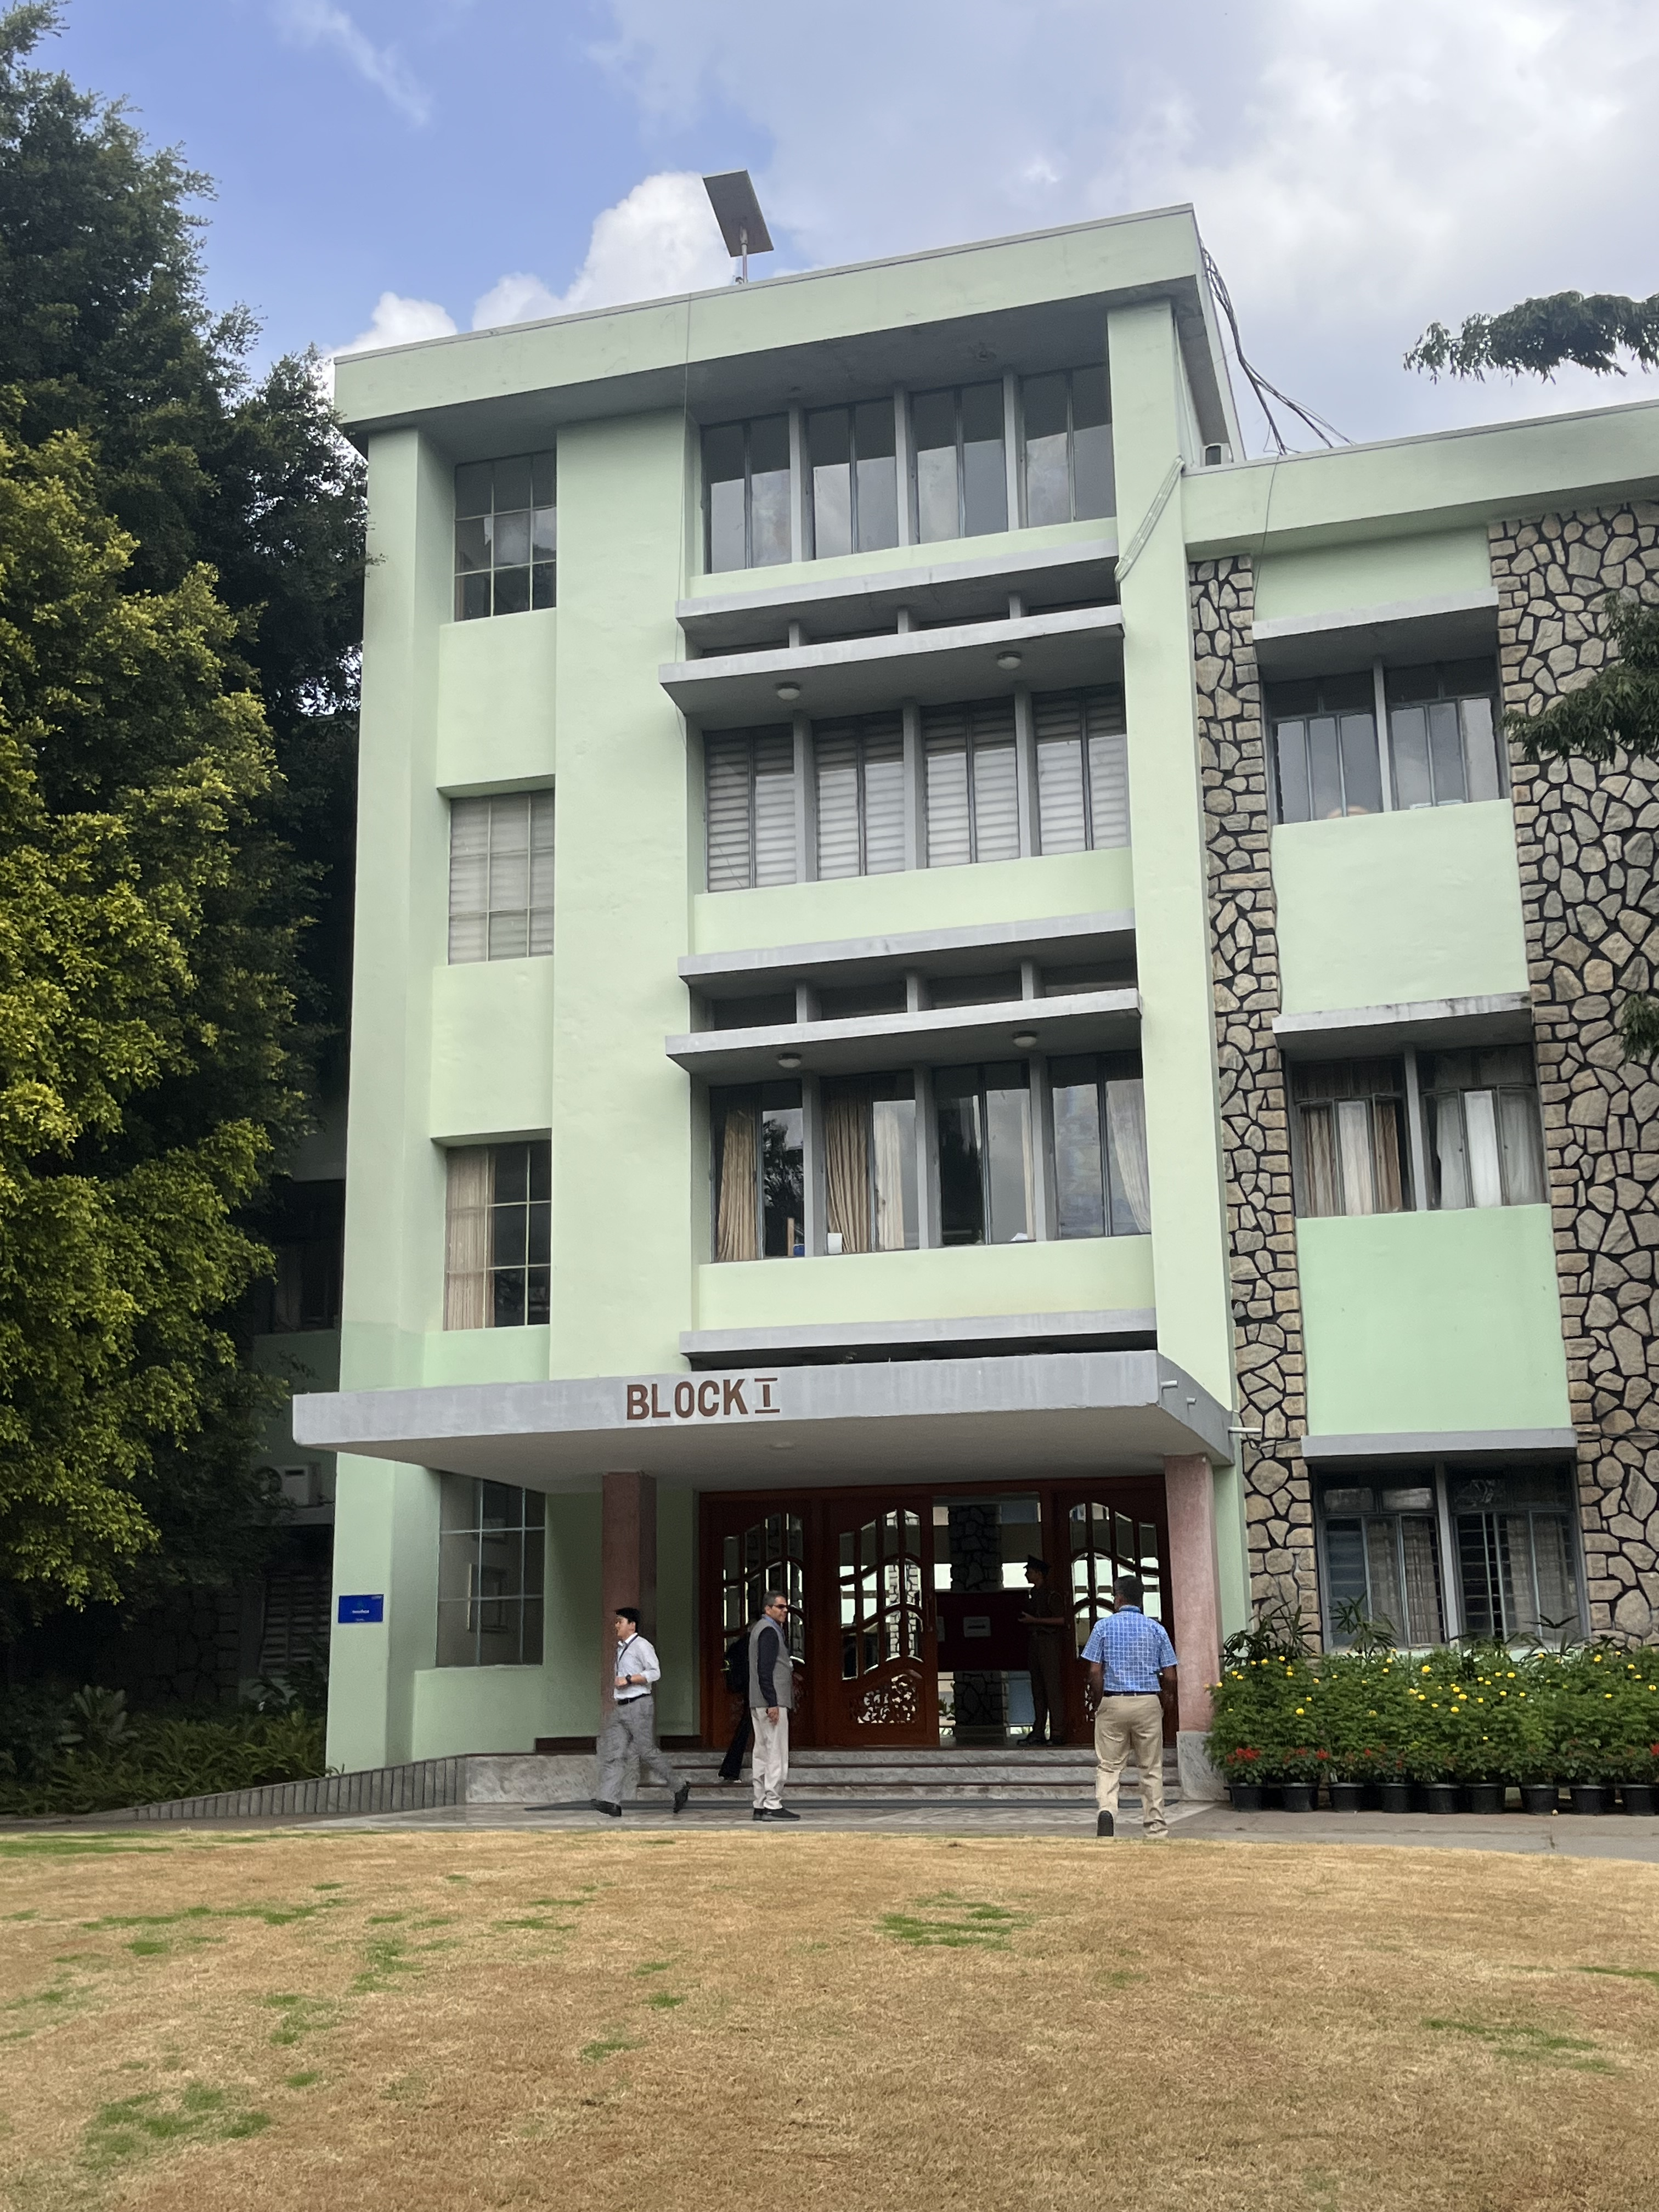Block 1: (284, 289, 1615, 1869)
